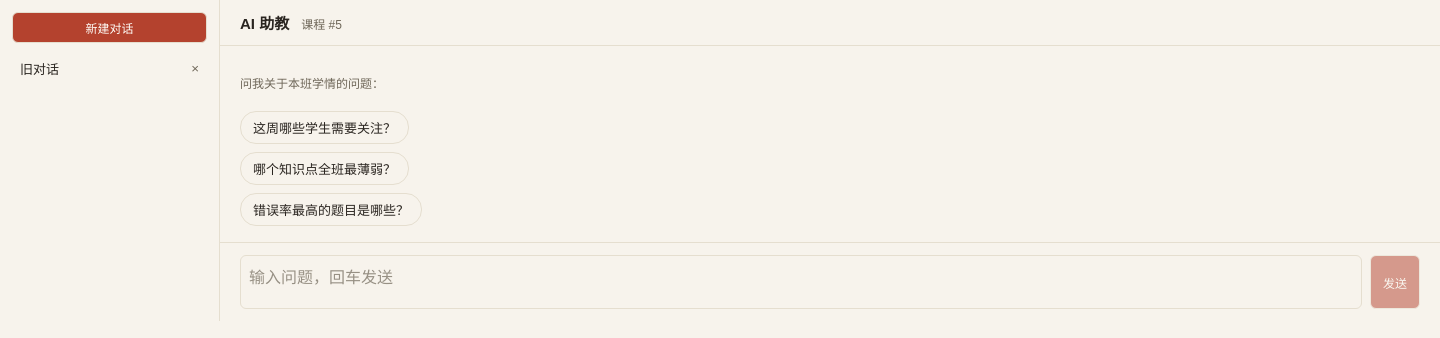
Test case: TeacherAssistant › lists conversations, loads messages on select, deletes
The image size is (1440, 338).
Click the button with test id "conv-item": [98, 68] box [12,53,183,84]
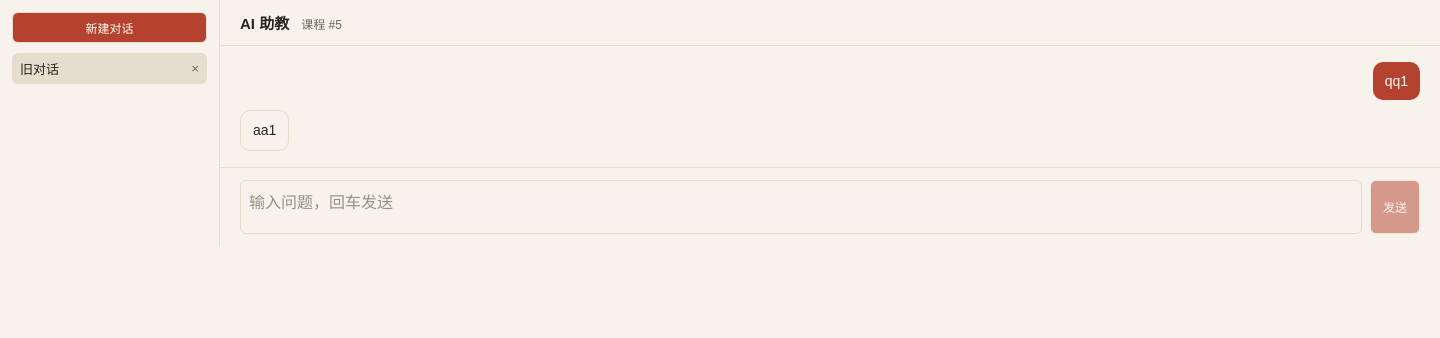
Now the text "qq1" is shown, box [1373,62,1420,100]
Now the text "aa1" is shown, box [240,110,289,151]
Click the button with test id "conv-del": [195, 68] box [183,57,207,80]
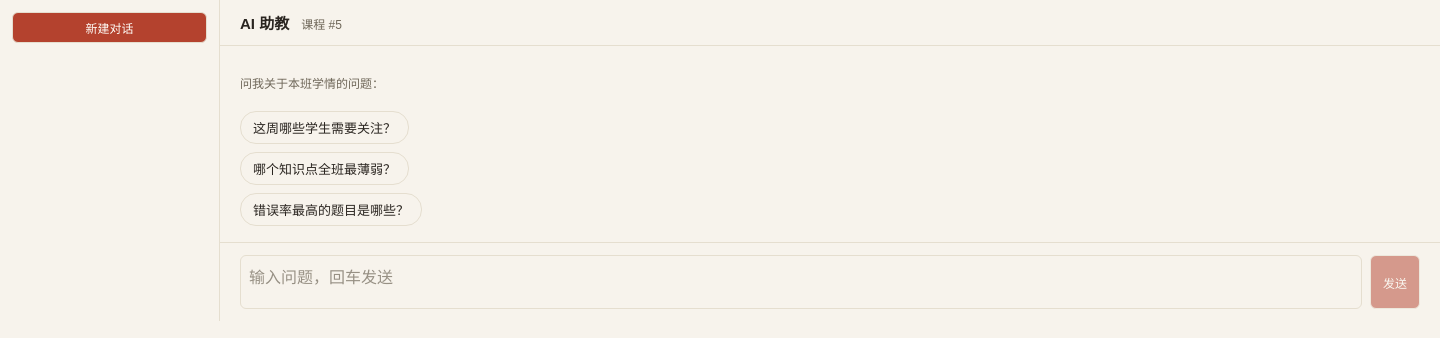
Now no buttons with test id "conv-item" are shown
